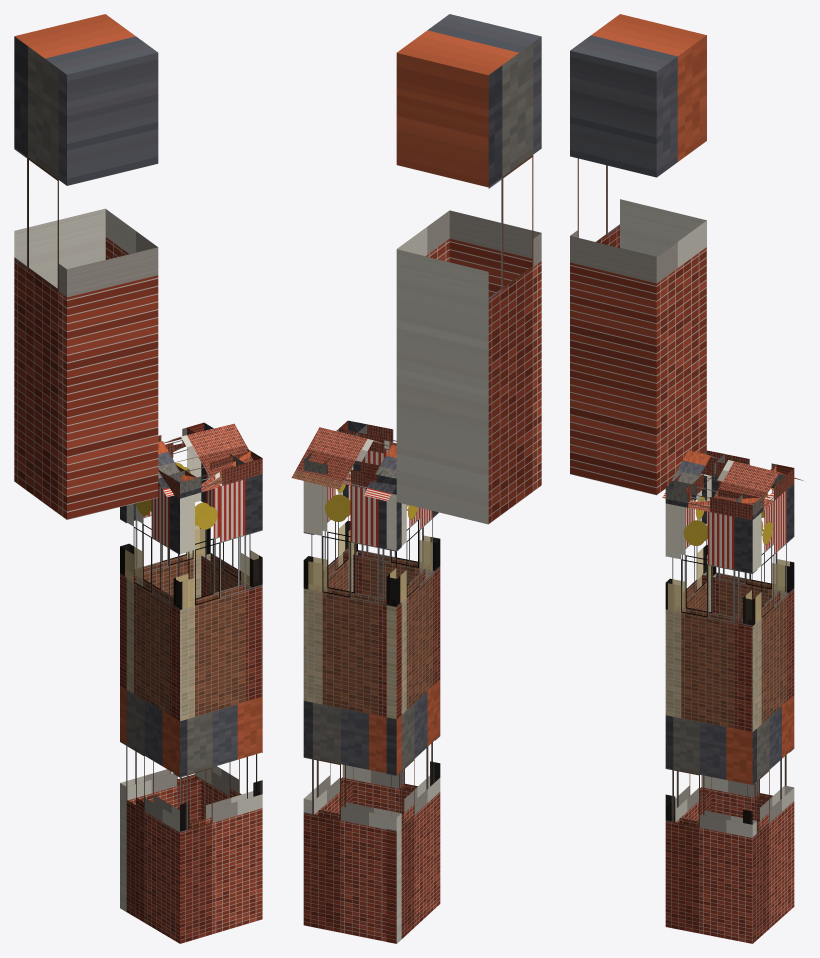
The picture shows the model from 3 angles, left to right: view 1: azimuth 30°, elevation 25°; view 2: azimuth 150°, elevation 25°; view 3: azimuth 330°, elevation 25°; orthographic projection. The views are drawn at different scales.
Parts seen in each view (by area): view 1: 238636760__chimney_0_xb, 238636760__wall_1_xb, 238636760__wall_0_xb, 238636760__wall_3_xb, 238636760__wall_2_xb, 238636760_roof_-1_xb, 238636760__cornice_1, 238636760__wall_0_xf, 238636760__wall_2_xf, 238636760__wall_1_xf; view 2: 238636760__chimney_0_xb, 238636760__wall_3_xb, 238636760__wall_0_xb, 238636760__wall_1_xb, 238636760_roof_1_xb, 238636760__wall_2_xb, 238636760__cornice_3, 238636760__wall_0_xf, 238636760__cornice_1, 238636760__wall_3_xf; view 3: 238636760__chimney_0_xb, 238636760__wall_1_xb, 238636760__wall_2_xb, 238636760__wall_3_xb, 238636760__wall_0_xb, 238636760_roof_-1_xb, 238636760__cornice_1, 238636760__cornice_2, 238636760__wall_2_xf, 238636760__cornice_3, 238636760__wall_1_xf, 238636760__wall_3_xf.
Part boxes in pixels (left/top/right/bottom): 238636760__chimney_0_xb: left=14, top=14, right=158, bottom=519; 238636760__wall_1_xb: left=173, top=474, right=262, bottom=943; 238636760__wall_0_xb: left=120, top=486, right=189, bottom=943; 238636760__wall_3_xb: left=120, top=449, right=210, bottom=911; 238636760__wall_2_xb: left=195, top=463, right=262, bottom=819; 238636760_roof_-1_xb: left=158, top=423, right=253, bottom=496; 238636760__cornice_1: left=168, top=451, right=262, bottom=498; 238636760__wall_0_xf: left=120, top=544, right=185, bottom=830; 238636760__wall_2_xf: left=241, top=551, right=262, bottom=795; 238636760__wall_1_xf: left=174, top=574, right=194, bottom=608; 238636760__chimney_0_xb: left=396, top=14, right=541, bottom=524; 238636760__wall_3_xb: left=303, top=481, right=401, bottom=943; 238636760__wall_0_xb: left=386, top=494, right=440, bottom=943; 238636760__wall_1_xb: left=343, top=449, right=440, bottom=813; 238636760_roof_1_xb: left=291, top=427, right=396, bottom=501; 238636760__wall_2_xb: left=303, top=466, right=357, bottom=814; 238636760__cornice_3: left=303, top=453, right=379, bottom=488; 238636760__wall_0_xf: left=387, top=537, right=439, bottom=786; 238636760__cornice_1: left=339, top=421, right=396, bottom=453; 238636760__wall_3_xf: left=304, top=556, right=326, bottom=591; 238636760__chimney_0_xb: left=570, top=14, right=706, bottom=495; 238636760__wall_1_xb: left=665, top=503, right=757, bottom=943; 238636760__wall_2_xb: left=743, top=483, right=794, bottom=943; 238636760__wall_3_xb: left=702, top=475, right=794, bottom=821; 238636760__wall_0_xb: left=665, top=474, right=716, bottom=822; 238636760_roof_-1_xb: left=662, top=450, right=779, bottom=519; 238636760__cornice_1: left=665, top=480, right=760, bottom=520; 238636760__cornice_2: left=735, top=464, right=794, bottom=519; 238636760__wall_2_xf: left=743, top=590, right=769, bottom=823; 238636760__cornice_3: left=702, top=450, right=785, bottom=488; 238636760__wall_1_xf: left=666, top=579, right=685, bottom=611; 238636760__wall_3_xf: left=772, top=559, right=793, bottom=591.
Size of the model in its own units: 0.3189 by 1.4 by 0.1726.
Materials: 1 (1 with a texture image).
